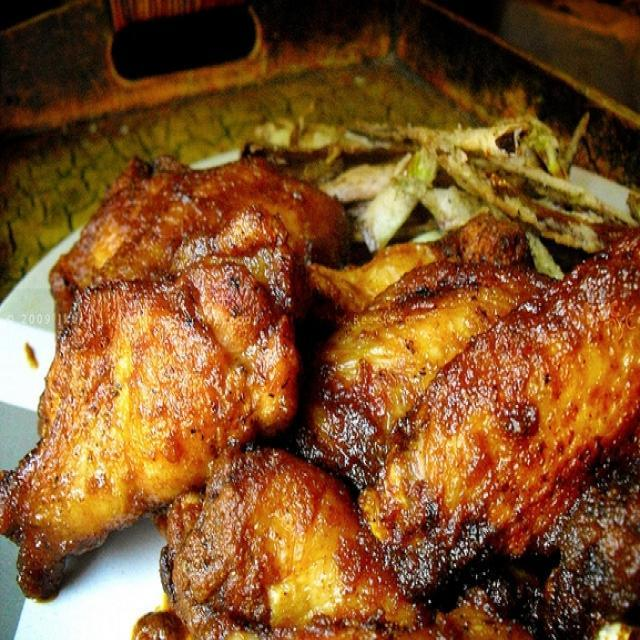Deep fried chicken wing: (40, 164, 629, 636)
